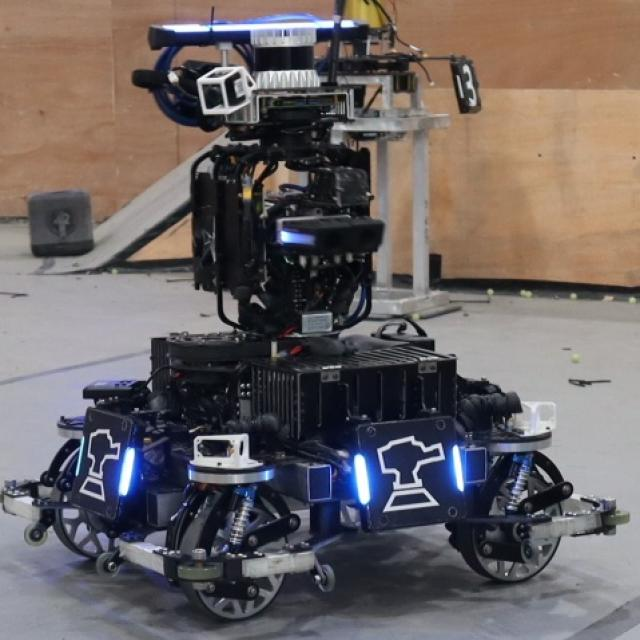Bs: (352, 412, 468, 534), (70, 408, 140, 524)
